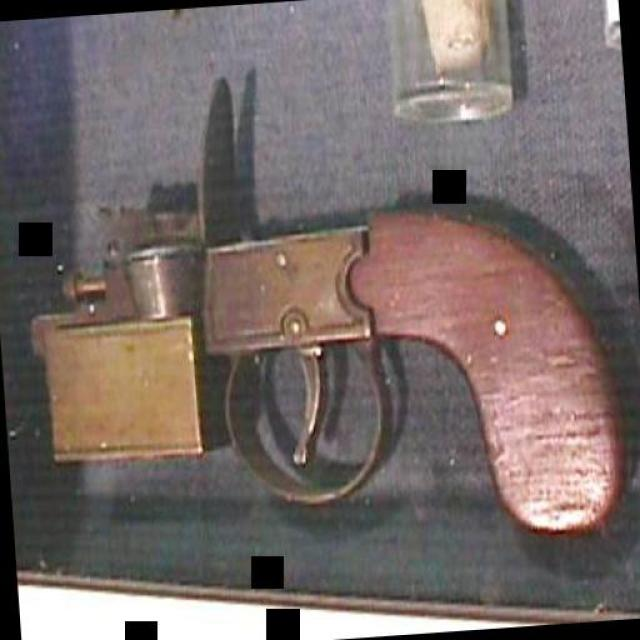gun: (11, 180, 622, 572)
